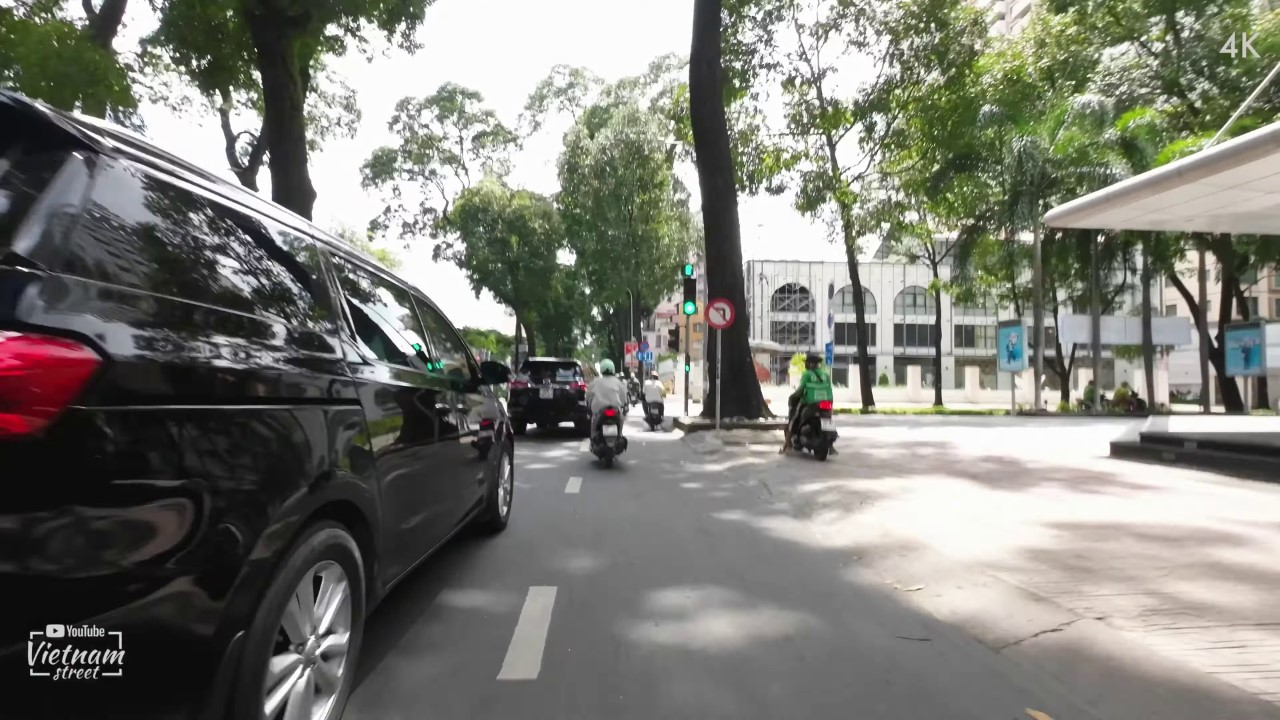cam_re_trai: (703, 297, 737, 331)
